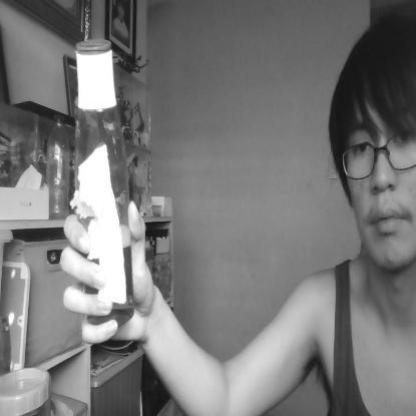Plastic Bottle: (76, 35, 136, 335)
